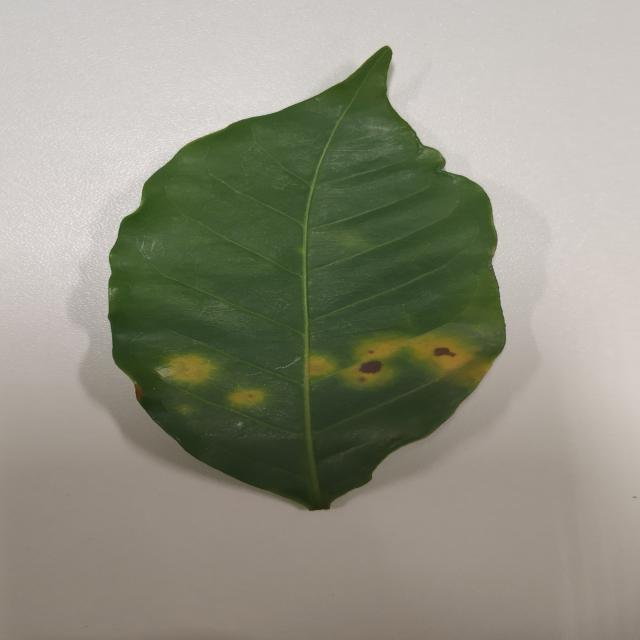Enfermedad-Roya: (106, 47, 508, 513)
